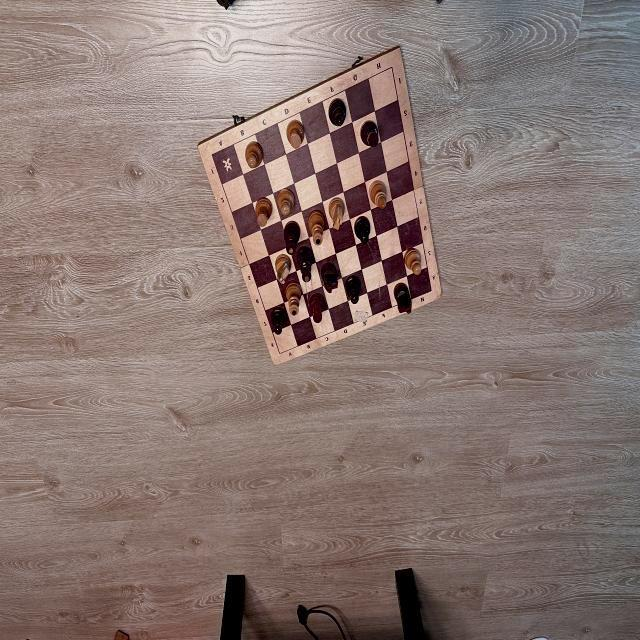chess-table-corners: (429, 288, 434, 294), (210, 152, 214, 157), (391, 64, 394, 70), (278, 352, 282, 356)
